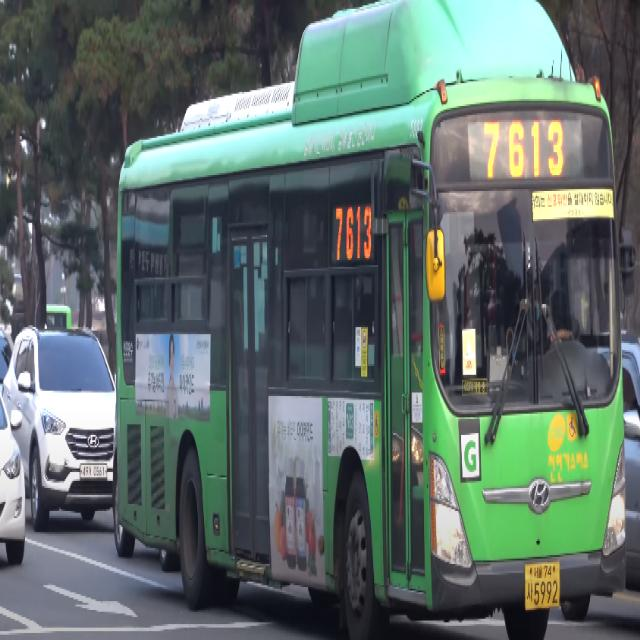bus-number: (482, 118, 566, 180)
